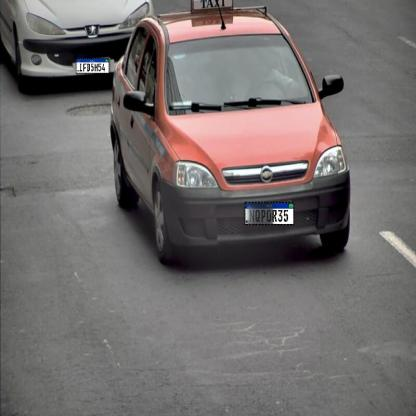PlacaM: (244, 202, 294, 225), (76, 58, 109, 74)
